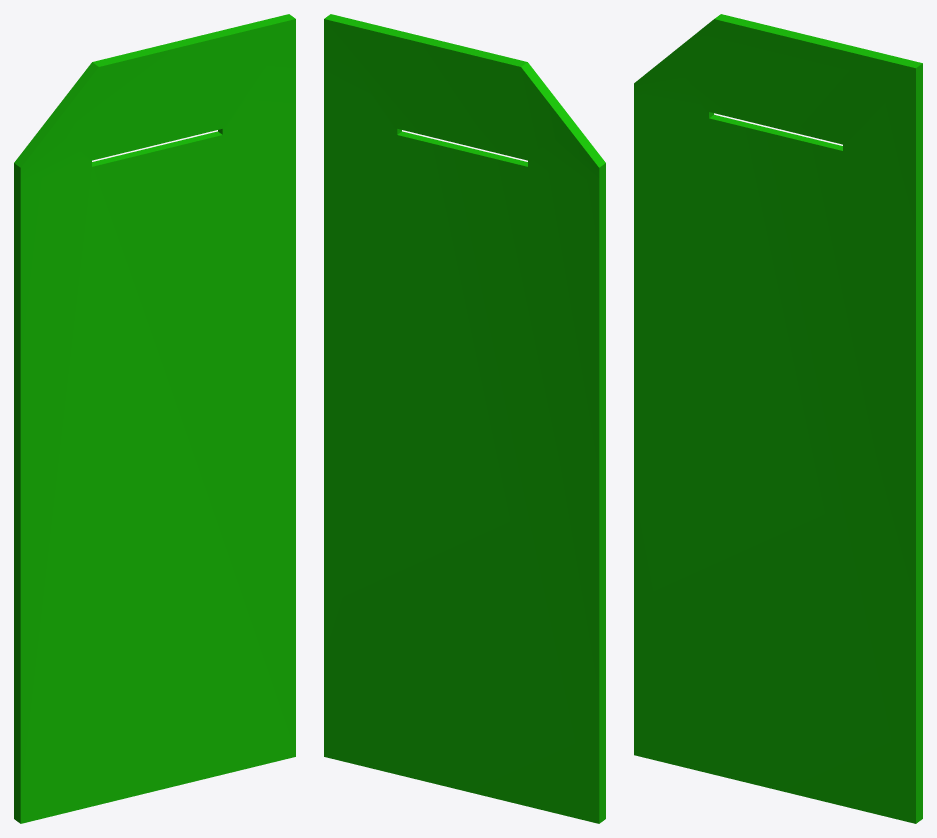
File: porte_casier.FBX
3 renders of one model, left to right at view 1: azimuth 30°, elevation 25°; view 2: azimuth 150°, elevation 25°; view 3: azimuth 330°, elevation 25°, orthographic. The views are drawn at different scales.
Parts seen in each view (by area): view 1: Object001; view 2: Object001; view 3: Object001.
Part boxes in pixels (left/top/right/bottom): Object001: left=14, top=14, right=295, bottom=823; Object001: left=324, top=14, right=605, bottom=823; Object001: left=634, top=14, right=922, bottom=823.
Bounding box in the file's own units: 87.98 × 225 × 3.75.
